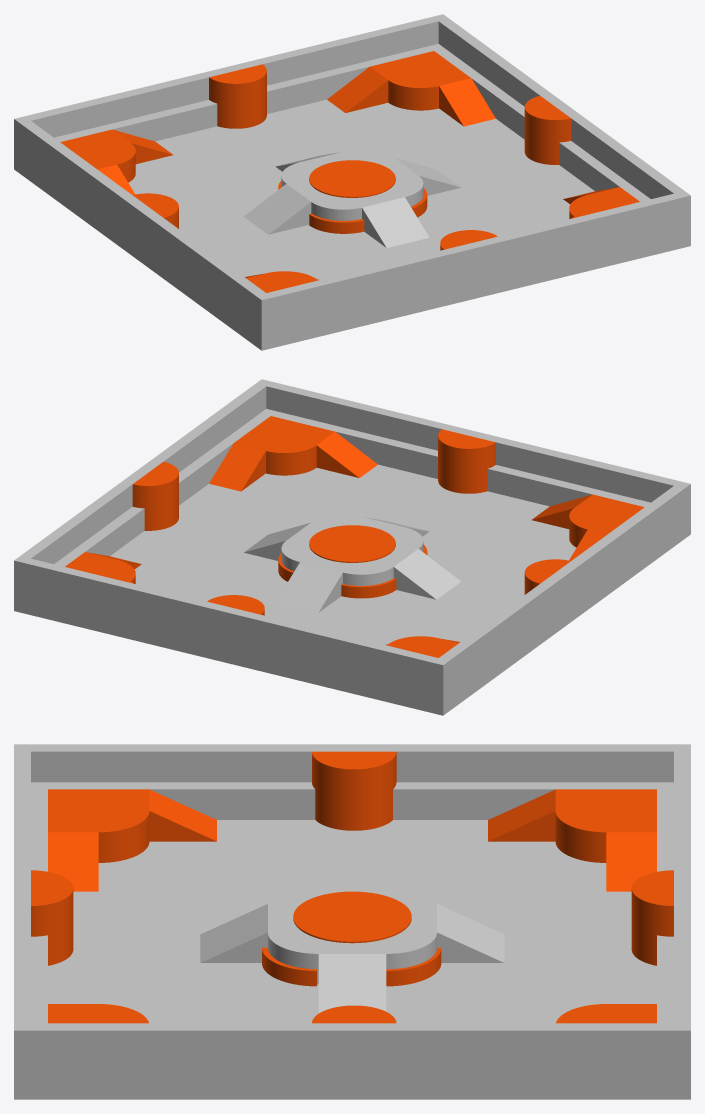
The model's file is Lvl_FirstPerson.fbx.
The picture shows the model from 3 angles, top to bottom: view 1: azimuth 30°, elevation 25°; view 2: azimuth 150°, elevation 25°; view 3: azimuth 270°, elevation 25°; orthographic projection. The views are drawn at different scales.
Parts seen in each view (by area): view 1: Floor, SM_Cube19, SM_Cube18, SM_Cube5, SM_Cube20, SM_Cube17, SM_Cube3, SM_Cube4, SM_Cube2, SM_Cylinder, SM_Ramp12, SM_Ramp9 (+17 smaller); view 2: Floor, SM_Cube18, SM_Cube19, SM_Cube4, SM_Cube20, SM_Cube17, SM_Cube3, SM_Cube5, SM_Cube2, SM_Cylinder, SM_Ramp10, SM_Ramp9 (+18 smaller); view 3: Floor, SM_Cube17, SM_Cube20, SM_Cube2, SM_Cube3, SM_Cylinder, SM_Cube18, SM_Cube19, SM_Ramp11, SM_Cylinder6, SM_Cylinder7, SM_Ramp10 (+33 smaller).
Part boxes in pixels (x1,y1,x2,y2): Floor: (14, 99, 690, 350); SM_Cube19: (266, 193, 680, 319); SM_Cube18: (25, 17, 438, 137); SM_Cube5: (283, 223, 669, 339); SM_Cube20: (14, 116, 272, 322); SM_Cube17: (433, 14, 690, 220); SM_Cube3: (14, 141, 283, 344); SM_Cube4: (54, 46, 433, 141); SM_Cube2: (428, 44, 690, 245); SM_Cylinder: (309, 160, 395, 197); SM_Ramp12: (362, 197, 429, 247); SM_Ramp9: (243, 184, 311, 234); Floor: (14, 464, 690, 715); SM_Cube18: (24, 558, 438, 684); SM_Cube19: (266, 382, 679, 502); SM_Cube4: (35, 588, 421, 704); SM_Cube20: (432, 481, 690, 687); SM_Cube17: (14, 379, 271, 585); SM_Cube3: (421, 506, 690, 709); SM_Cube5: (271, 411, 650, 506); SM_Cube2: (14, 409, 276, 610); SM_Cylinder: (309, 525, 395, 562); SM_Ramp10: (275, 562, 342, 612); SM_Ramp9: (393, 549, 461, 599); Floor: (14, 820, 690, 1099); SM_Cube17: (14, 1023, 690, 1061); SM_Cube20: (14, 744, 690, 782); SM_Cube2: (14, 1061, 690, 1091); SM_Cube3: (31, 782, 673, 819); SM_Cylinder: (293, 891, 411, 943); SM_Cube18: (674, 751, 690, 1023); SM_Cube19: (14, 751, 30, 1023); SM_Ramp11: (318, 954, 386, 1012); SM_Cylinder6: (312, 751, 354, 830); SM_Cylinder7: (354, 751, 396, 830); SM_Ramp10: (437, 904, 504, 962).
Size of what is drawn, in the model's own units: 4000 by 4000 by 500.
